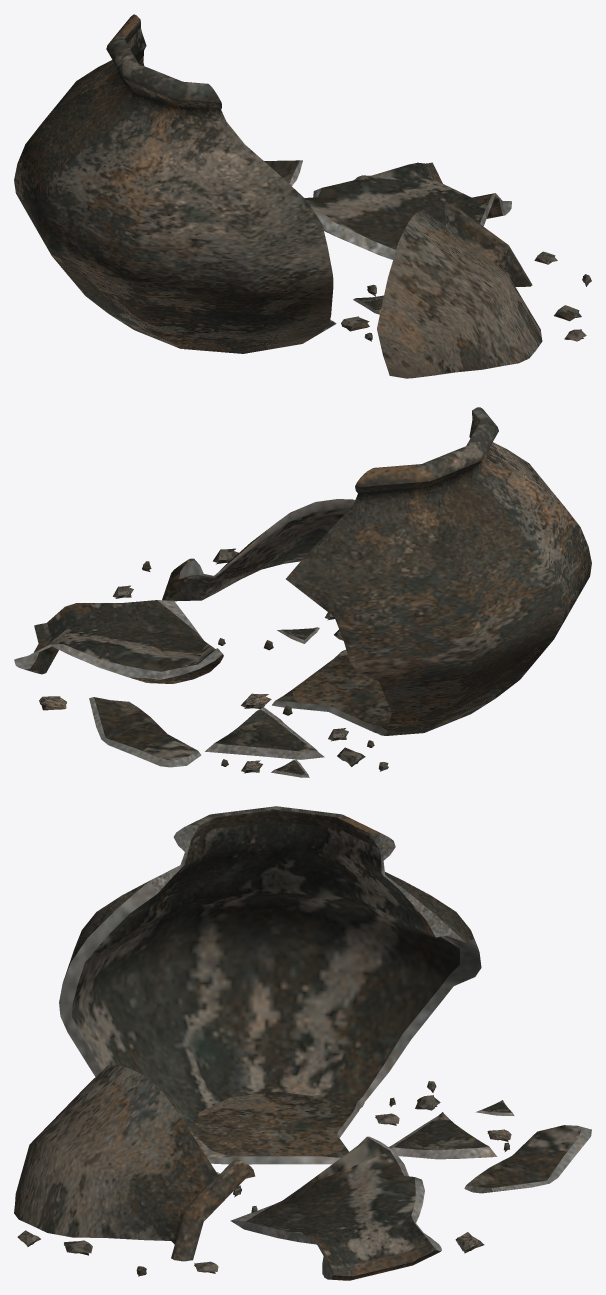
File: potterydestroy_2.fbx
The picture shows the model from 3 angles, top to bottom: view 1: azimuth 30°, elevation 25°; view 2: azimuth 150°, elevation 25°; view 3: azimuth 270°, elevation 25°; orthographic projection. The views are drawn at different scales.
Parts seen in each view (by area): view 1: pottery.dest2; view 2: pottery.dest2; view 3: pottery.dest2.
Boxes of the visible parts, x1,y1,x2,y2 form: pottery.dest2: (14,14,591,378); pottery.dest2: (14,407,591,777); pottery.dest2: (14,806,591,1280).
Size of the model in its own units: 90 by 47.04 by 87.91.
